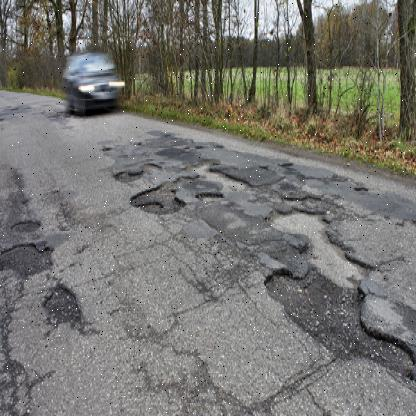damage: (251, 192, 392, 385), (122, 170, 192, 232)
